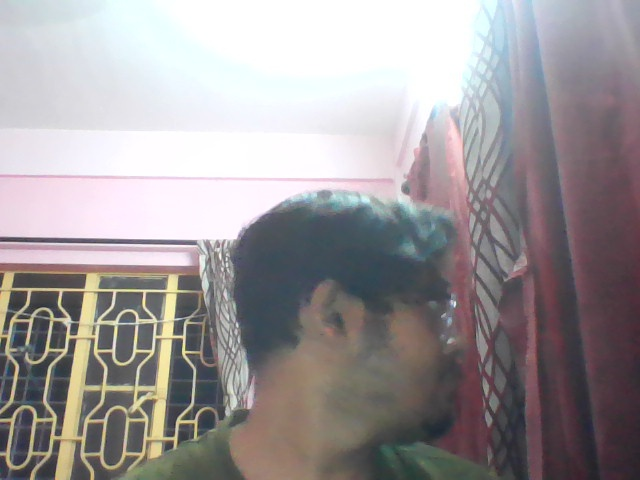No_Helmet: (179, 150, 481, 318)
